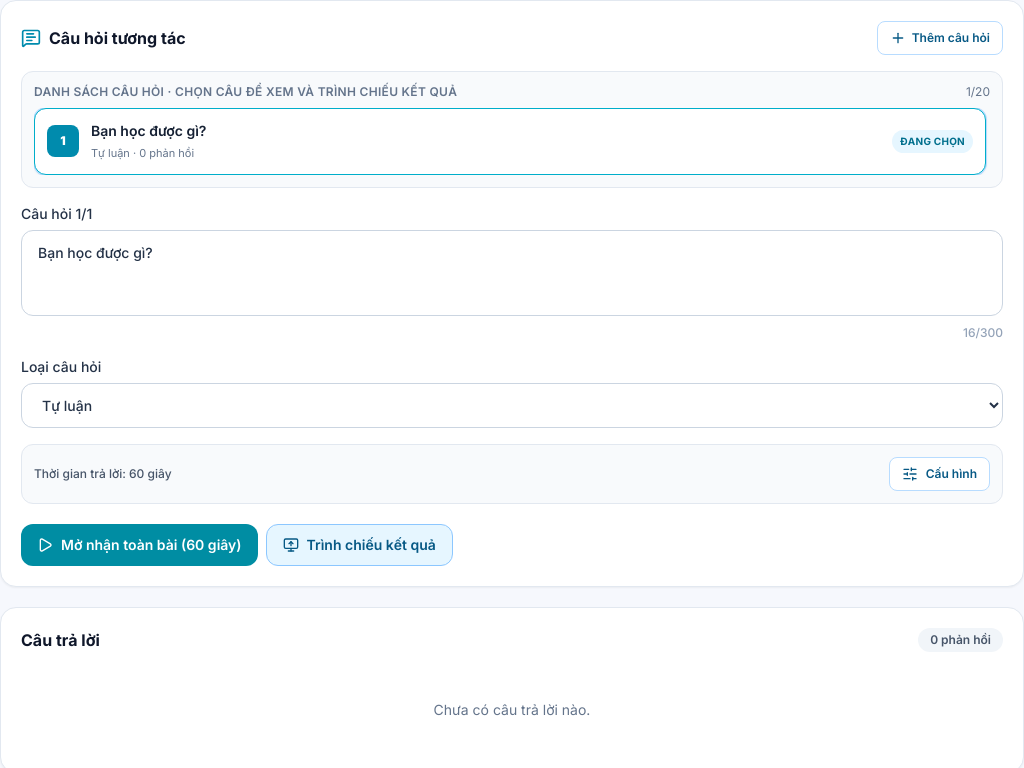
shows only the duration setting and saves the simple defaults
Expected: the button "Lưu cấu hình" is not shown
Click the button "Cấu hình": (939,474) left=889, top=456, right=990, bottom=490
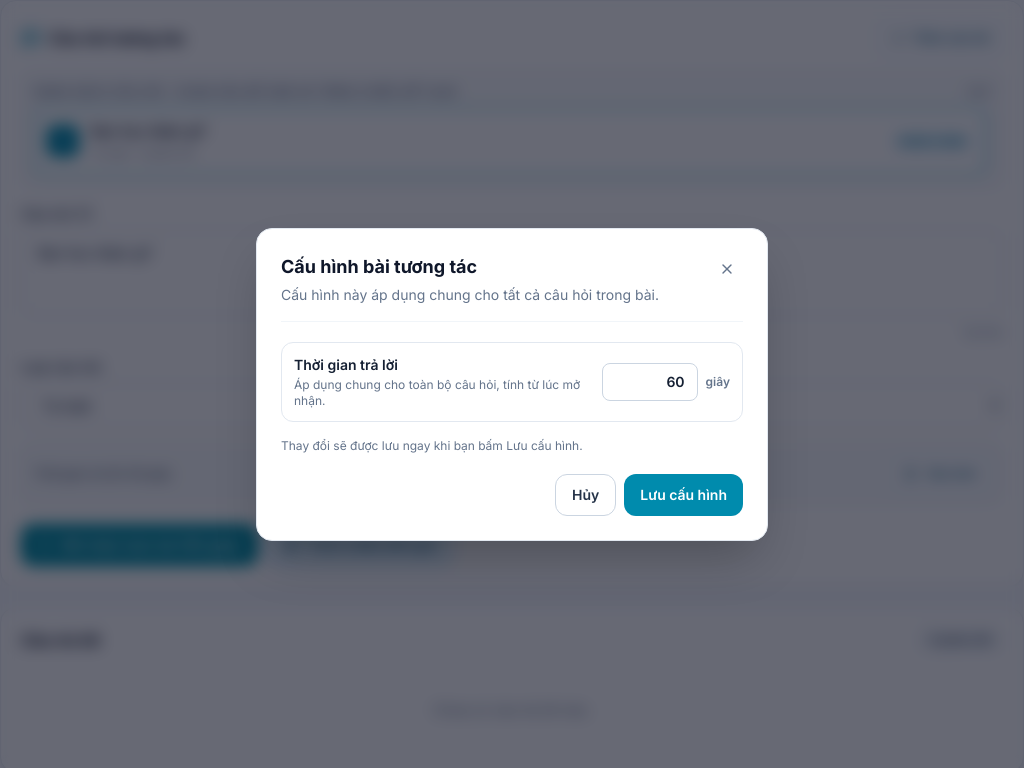
Clear the number field labelled "Thời gian trả lời": (650,382) left=602, top=362, right=698, bottom=400
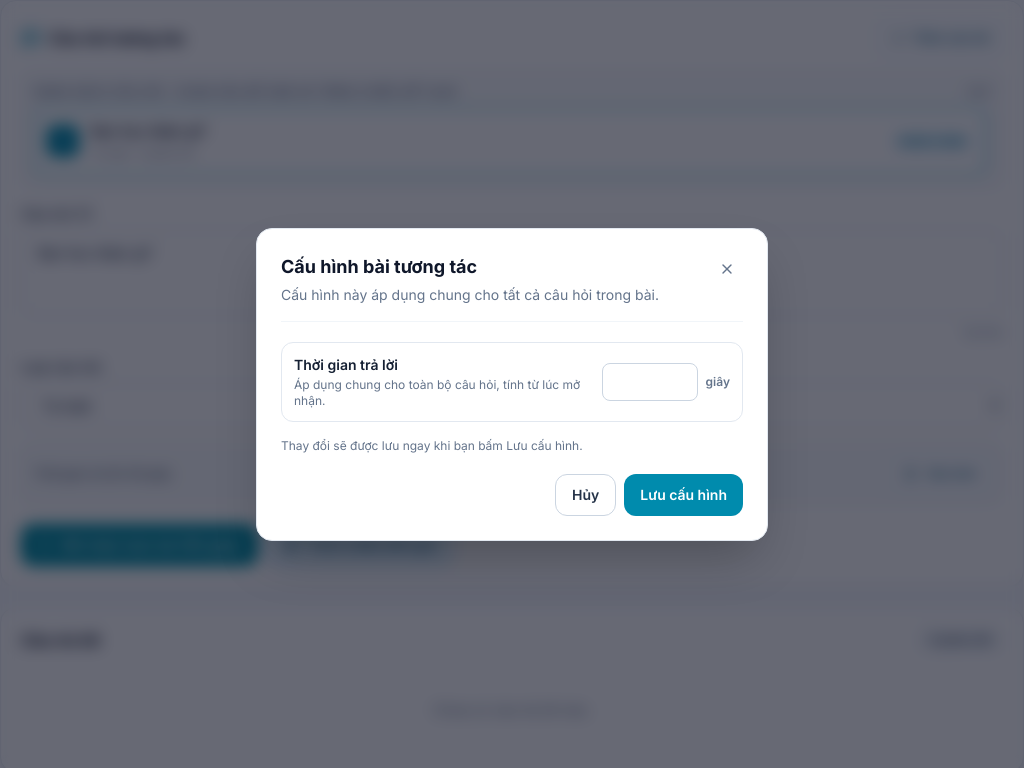
In the number field labelled "Thời gian trả lời": (650,382) left=602, top=362, right=698, bottom=400, type "5"
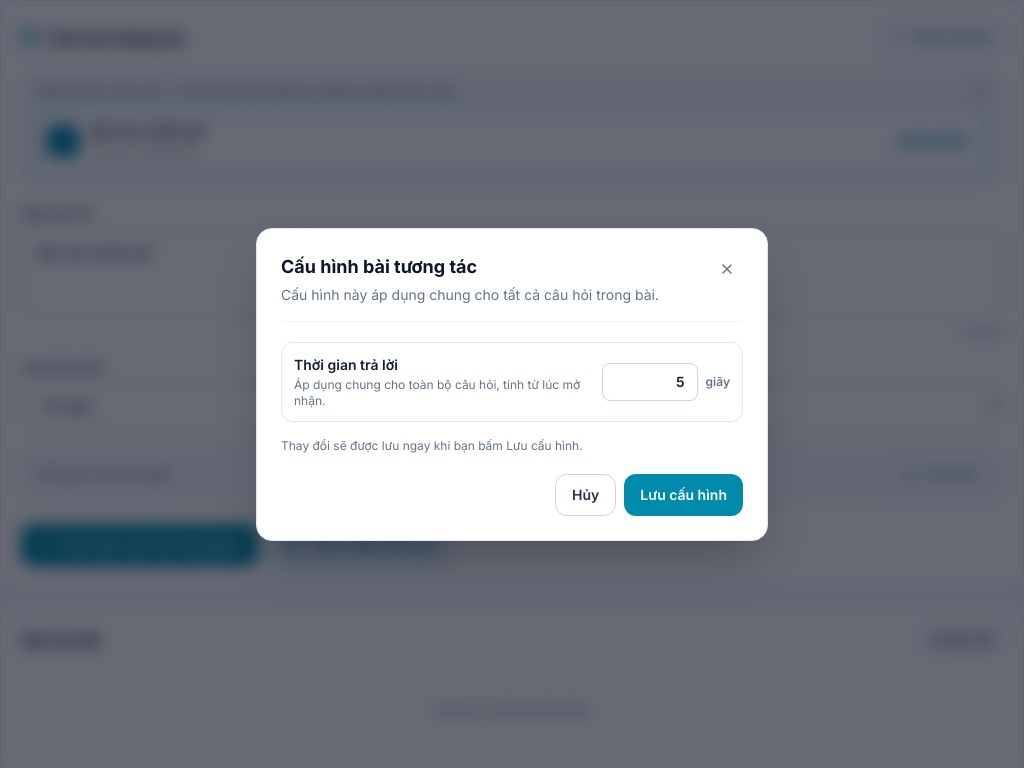
Click the button "Lưu cấu hình": (684,494) left=624, top=474, right=743, bottom=516
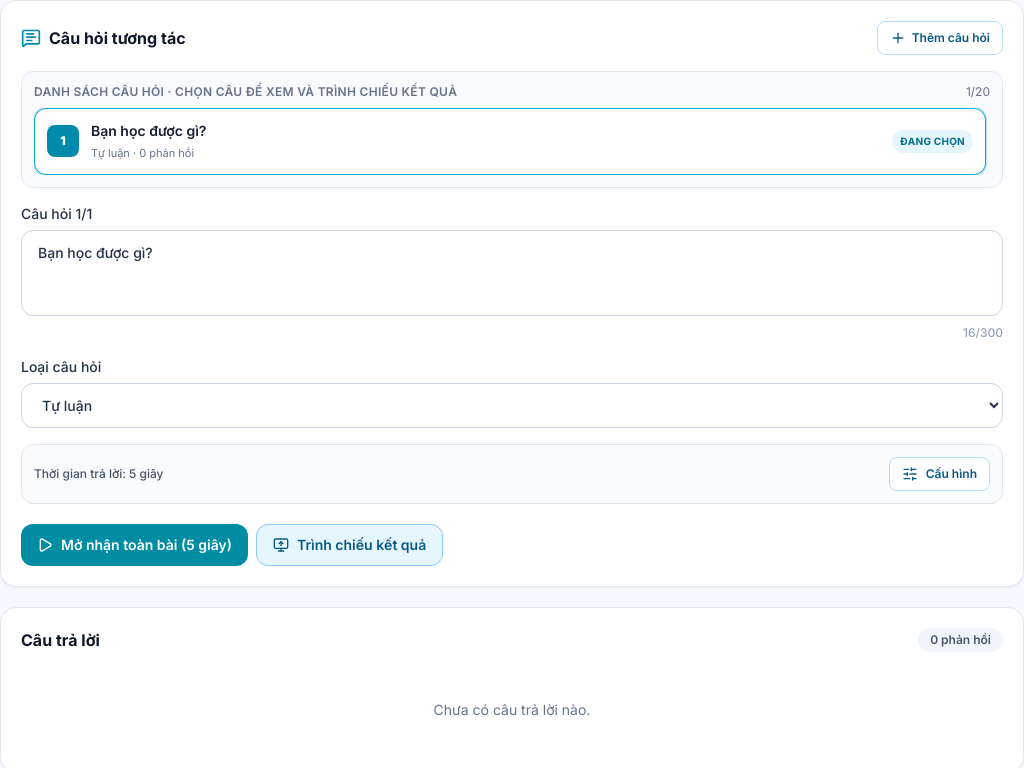
Expected: the heading "Cấu hình bài tương tác" is gone
